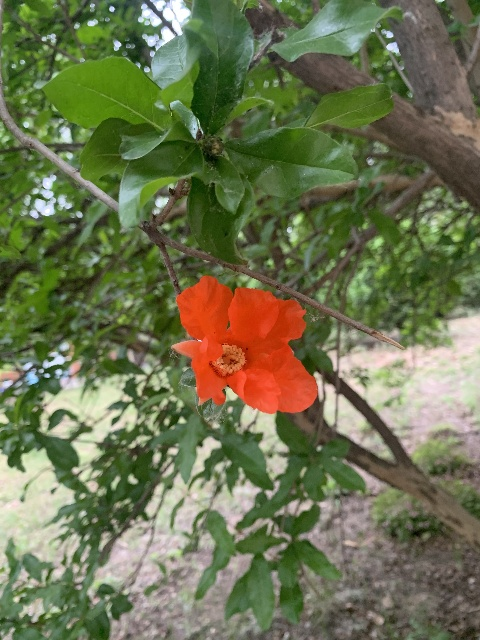flower: (172, 275, 317, 414)
